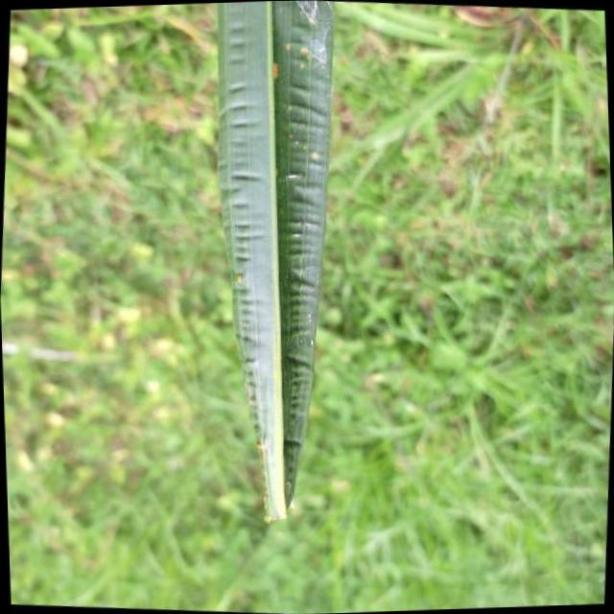Boron: (215, 0, 334, 516)
